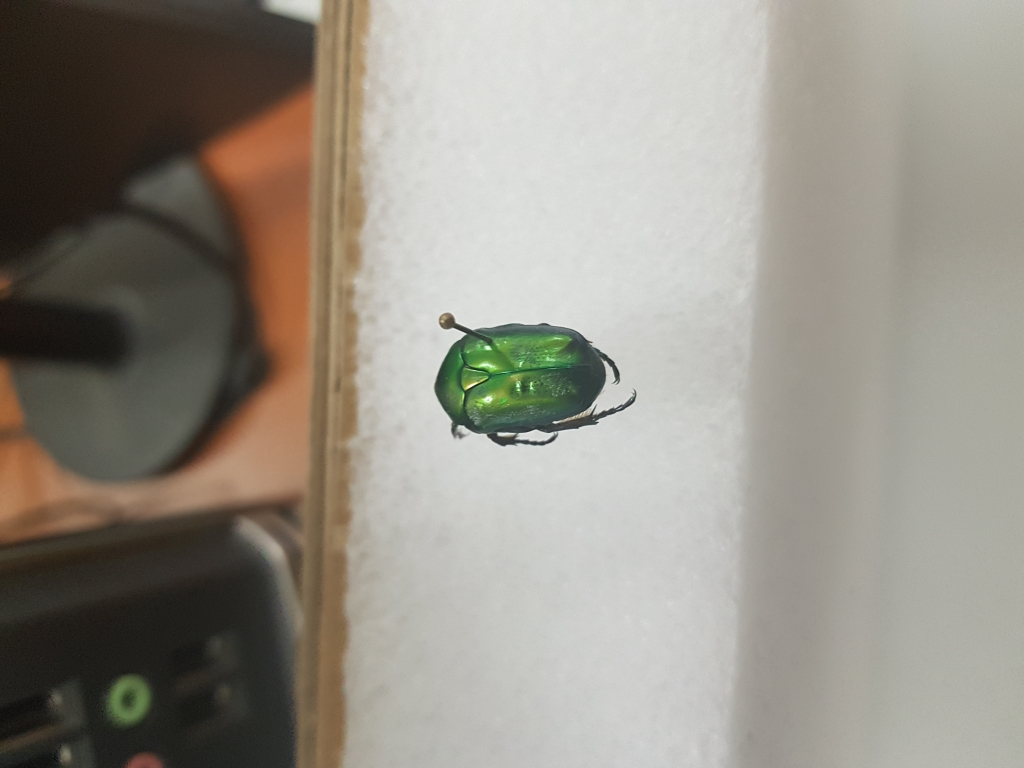Protaetia_cuprea_ignicollis: (426, 314, 635, 454)
